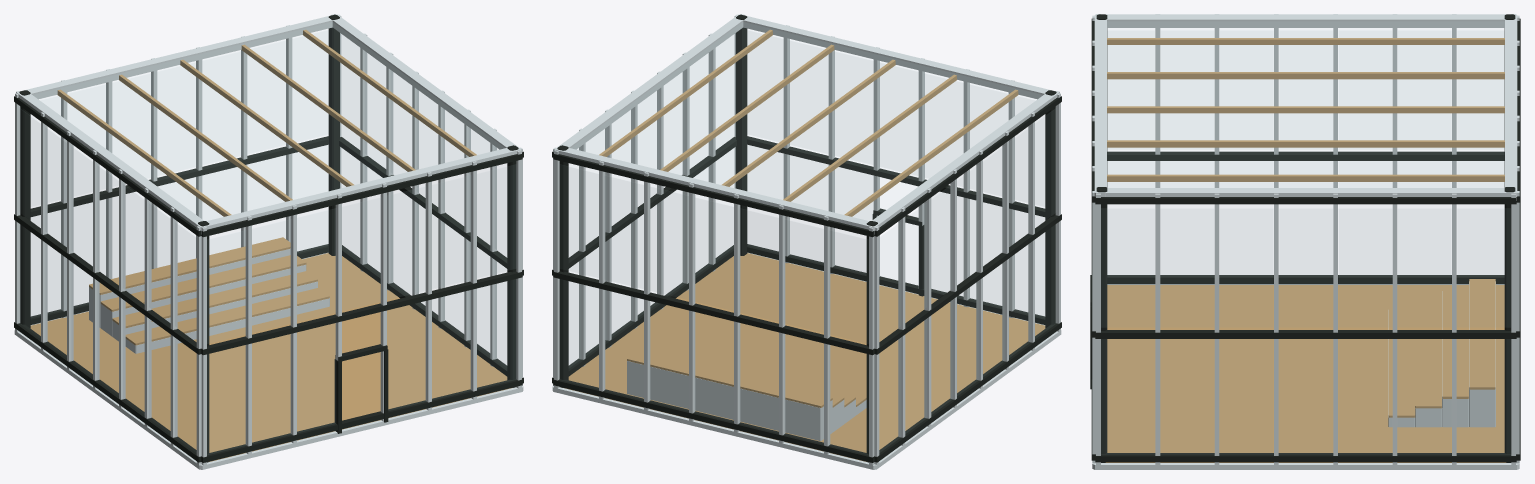
Rendered from gh_atrium_v01.glb.
3 views of the same model, side by side, from view 1: azimuth 30°, elevation 25°; view 2: azimuth 150°, elevation 25°; view 3: azimuth 270°, elevation 25° (orthographic). The views are drawn at different scales.
Parts seen in each view (by area): view 1: base, sides, front, seating, roof, back; view 2: base, sides, back, roof, seating, front; view 3: sides, base, roof, seating, front, back.
Part boxes in pixels (<box>): base: <box>14,252,523,469</box>; sides: <box>14,14,523,467</box>; front: <box>201,150,522,465</box>; seating: <box>19,14,518,462</box>; roof: <box>16,14,521,234</box>; back: <box>16,14,334,324</box>; base: <box>552,252,1061,469</box>; sides: <box>552,14,1061,464</box>; back: <box>553,150,874,468</box>; roof: <box>554,14,1059,234</box>; seating: <box>557,14,1056,462</box>; front: <box>741,14,1059,324</box>; sides: <box>1095,14,1516,468</box>; base: <box>1092,284,1519,469</box>; roof: <box>1094,14,1517,200</box>; seating: <box>1096,14,1515,462</box>; front: <box>1090,15,1095,463</box>; back: <box>1516,15,1520,463</box>.
Bounding box in the file's own units: 14.05 × 10 × 14.09.
2 materials, 1 textured.
